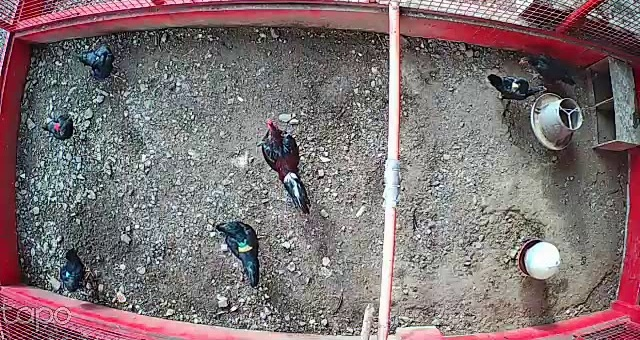Chicken: (212, 218, 267, 289), (517, 49, 577, 89), (56, 249, 98, 300), (487, 69, 548, 102), (43, 113, 85, 143)
Rooster: (257, 114, 315, 213)
Saddle_Color_Blue: (65, 271, 71, 278)
Saddle_Color_Red: (54, 123, 61, 132)
Saddle_Color_Yellow: (512, 80, 520, 91)
Saddle_Color_YellowGreen: (236, 239, 251, 254)
